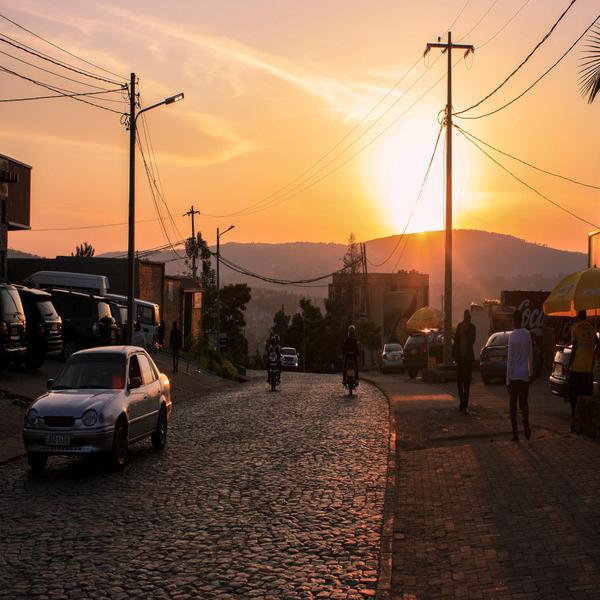utility_pole: (105, 65, 188, 152), (420, 23, 477, 83), (182, 201, 203, 225)
